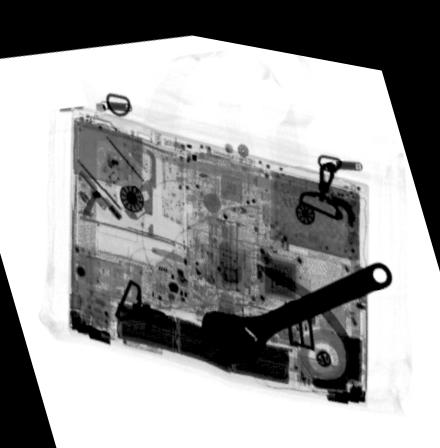Wrench: (198, 244, 391, 356)
